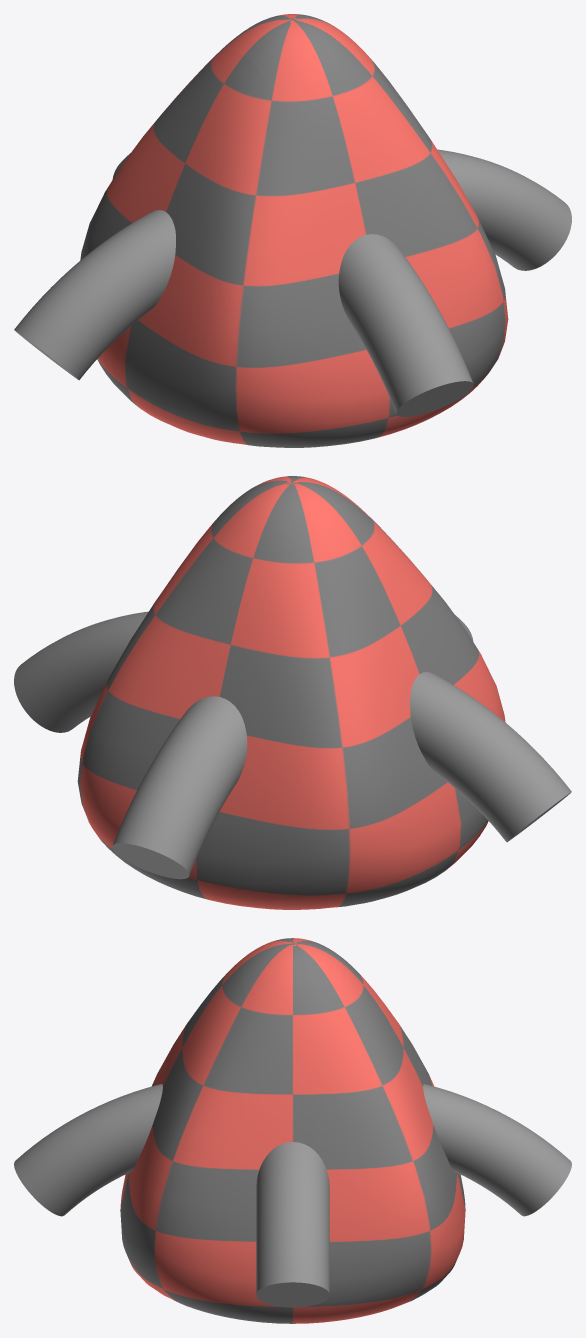
File: Body(Pyramidal)+Colour(More_Red)+Pattern(Checkered)+Arm_Angle(Bent_Down).fbx
3 views of the same model, one above another, from view 1: azimuth 30°, elevation 25°; view 2: azimuth 150°, elevation 25°; view 3: azimuth 270°, elevation 25° (orthographic). The views are drawn at different scales.
Parts seen in each view (by area): view 1: Body(Pyramidal)+Colour(More_Red)+Pattern(Checkered)+Arm_Angl (×4); view 2: Body(Pyramidal)+Colour(More_Red)+Pattern(Checkered)+Arm_Angl (×4); view 3: Body(Pyramidal)+Colour(More_Red)+Pattern(Checkered)+Arm_Angl (×4).
Boxes of the visible parts, bbox=[...] form: Body(Pyramidal)+Colour(More_Red)+Pattern(Checkered)+Arm_Angl (×4): bbox=[14, 14, 571, 447]; Body(Pyramidal)+Colour(More_Red)+Pattern(Checkered)+Arm_Angl (×4): bbox=[14, 476, 571, 909]; Body(Pyramidal)+Colour(More_Red)+Pattern(Checkered)+Arm_Angl (×4): bbox=[14, 938, 571, 1323].
Size of the model in its own units: 60.67 by 40 by 60.67.
2 materials, 1 textured.
